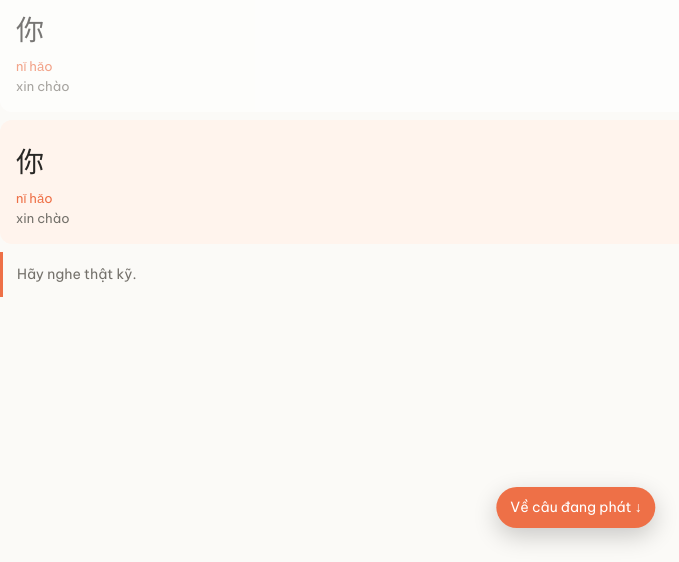
Scenario: W2c player acceptance › uses window scroll events for follow mode and keeps programmatic scrolls followed until scrollend
This screenshot has width=679, height=562.
Click the button "Về câu đang phát ↓" at (576, 508), box [496,487,656,528]
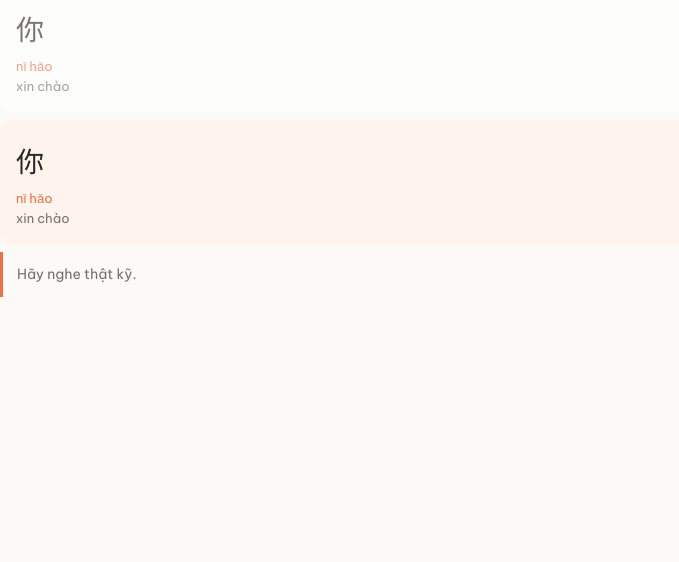
Expected: the button "Về câu đang phát" is gone
